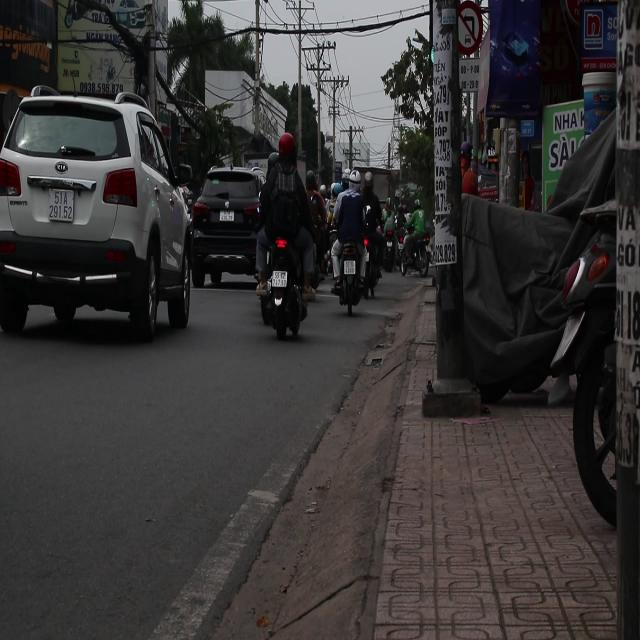car: (2, 93, 196, 338), (188, 167, 262, 287)
motorbike: (256, 234, 309, 342), (330, 238, 368, 316), (385, 216, 403, 272)
